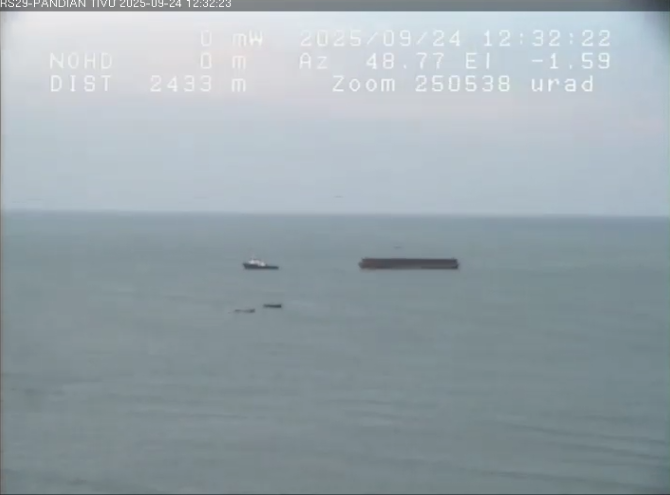BARGE: (348, 247, 480, 276)
FISHING_BOAT: (259, 296, 291, 321), (223, 299, 255, 321)
OFFSHORE_SUPPLY_VESSEL: (231, 250, 307, 280)
TOWING: (202, 212, 513, 285)
